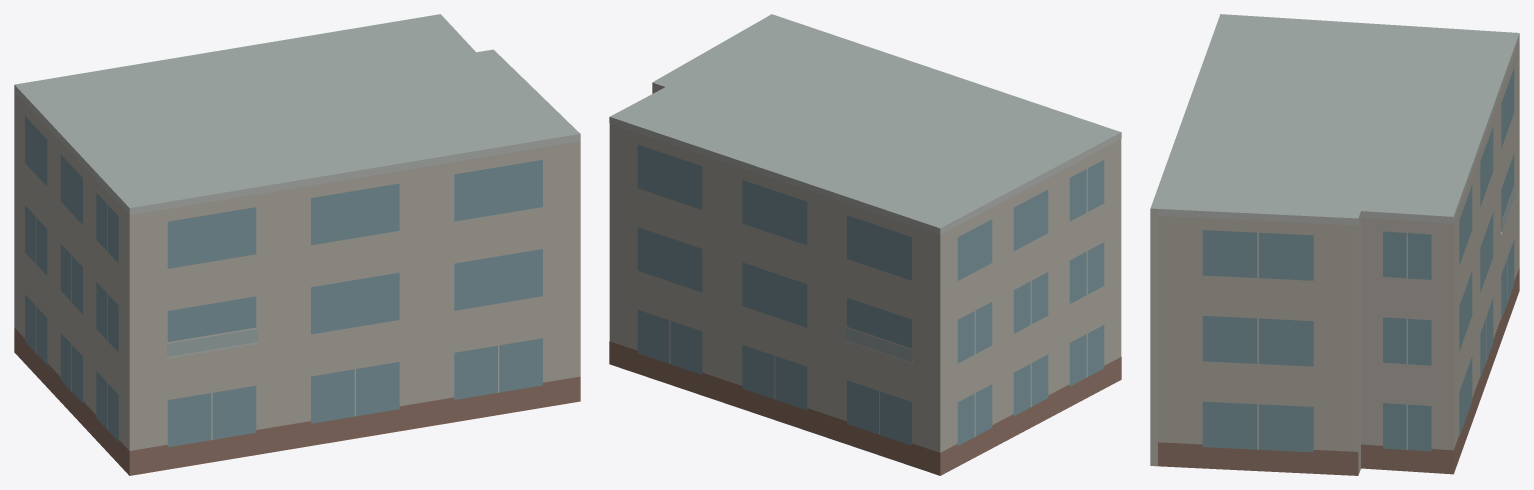
Rendered from survey-upis-32975942.glb.
3 views of the same model, side by side, from view 1: azimuth 30°, elevation 25°; view 2: azimuth 150°, elevation 25°; view 3: azimuth 270°, elevation 25° (orthographic). The views are drawn at different scales.
Visible parts, largest first — view 1: survey-upis-32975942.tmp; view 2: survey-upis-32975942.tmp; view 3: survey-upis-32975942.tmp.
Boxes of the visible parts, left/top/right/bottom form: survey-upis-32975942.tmp: left=14, top=14, right=580, bottom=475; survey-upis-32975942.tmp: left=609, top=14, right=1121, bottom=475; survey-upis-32975942.tmp: left=1150, top=14, right=1519, bottom=475.
Bounding box in the file's own units: 15.6 × 9.15 × 11.91.
